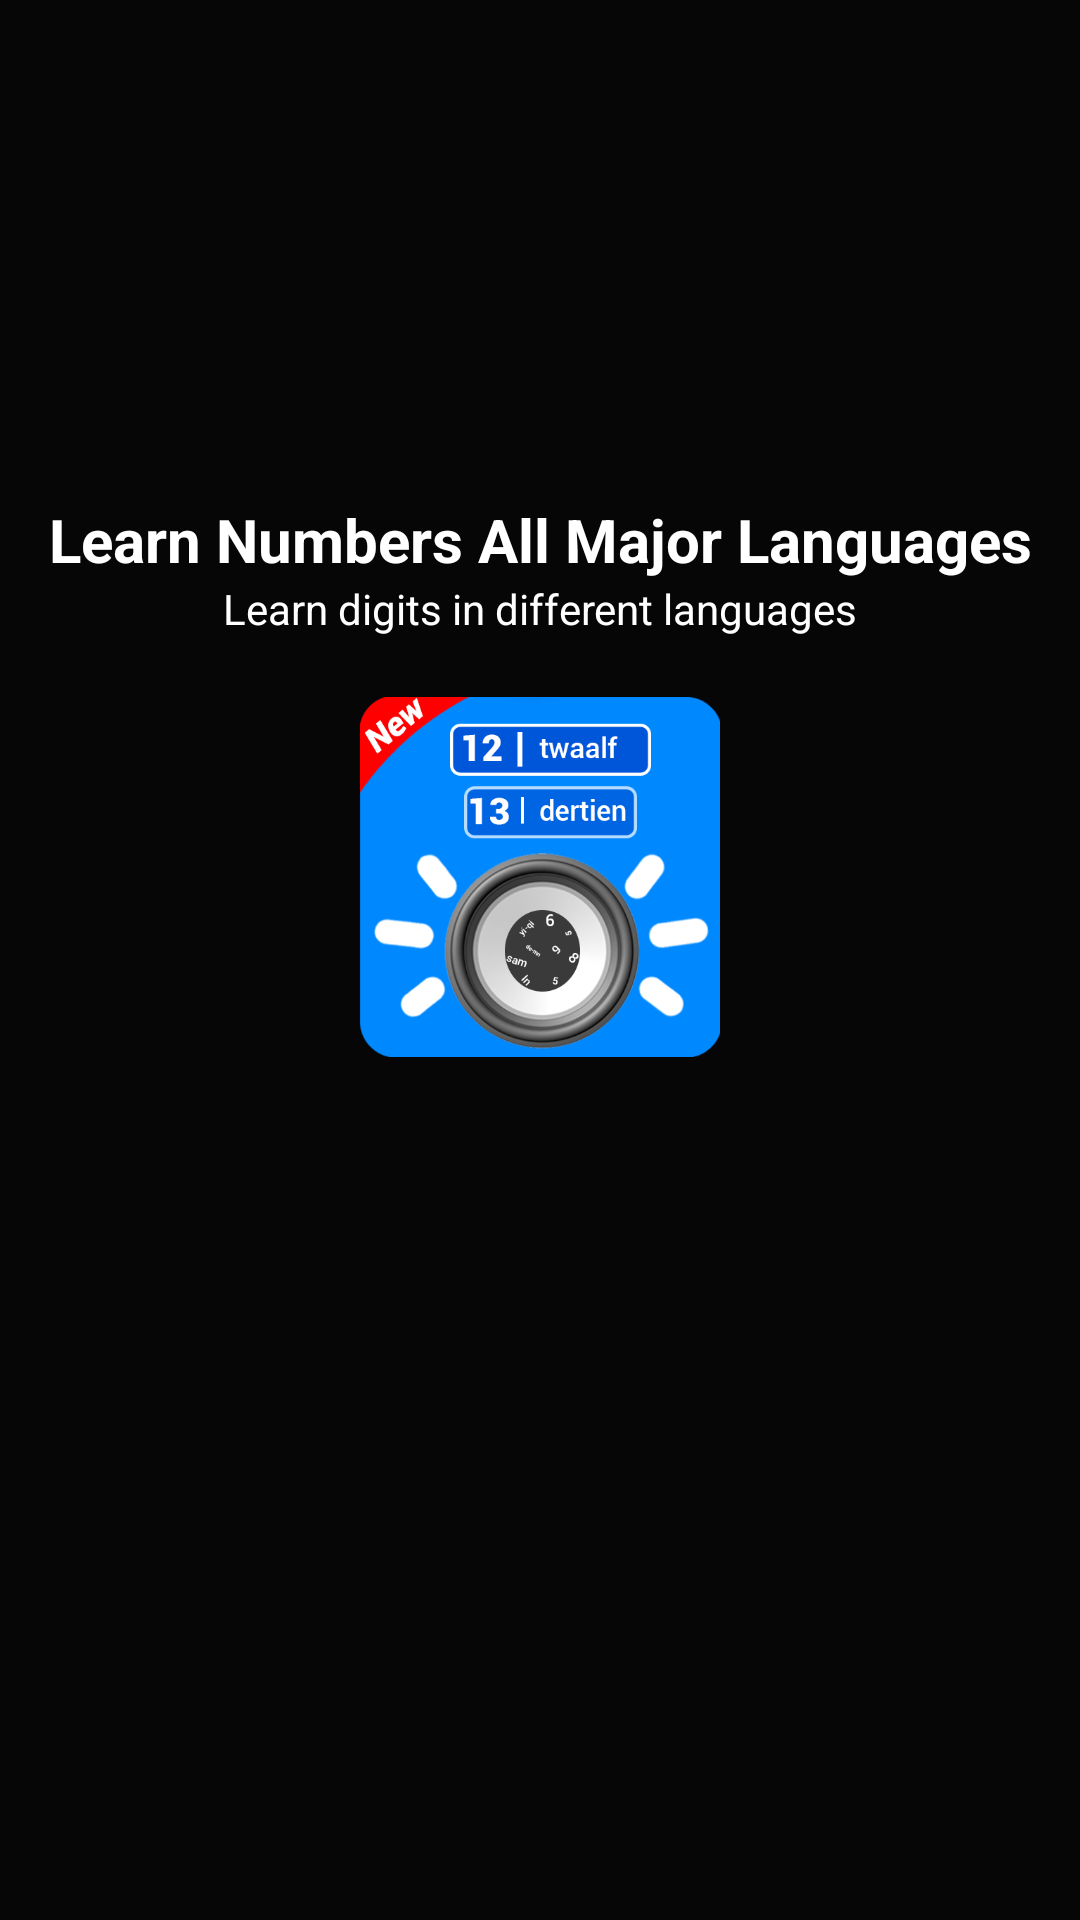

Locate icon controls on the screen. Image size 1080 x 1920, boxes as (x1, y1, x2, y2).
languages translator: (360, 697, 720, 1057)
